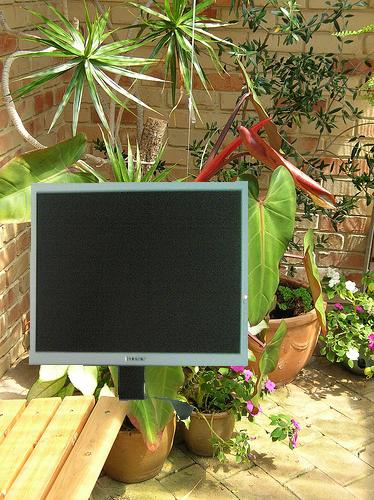tampered: (29, 182, 248, 420)
